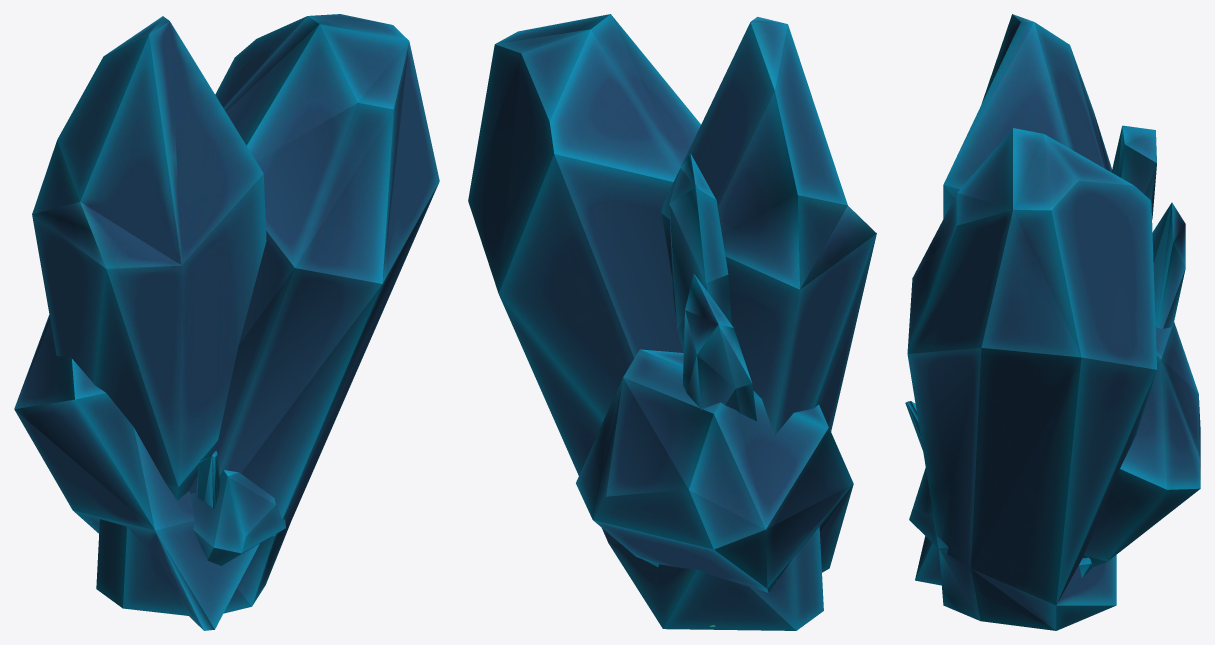
Rendered from Beacon.gltf.
3 views of the same model, side by side, from view 1: azimuth 30°, elevation 25°; view 2: azimuth 150°, elevation 25°; view 3: azimuth 270°, elevation 25° (orthographic). The views are drawn at different scales.
Parts seen in each view (by area): view 1: Crystal_Model_01, Crystal_Model_02, Crystal_Model_03, Crystal_Model_09, Crystal_Model_10; view 2: Crystal_Model_01, Crystal_Model_02, Crystal_Model_03, Crystal_Model_07, Crystal_Model_05; view 3: Crystal_Model_01, Crystal_Model_03, Crystal_Model_02, Crystal_Model_05, Crystal_Model_07, Crystal_Model_09.
Boxes of the visible parts, x1=… form: Crystal_Model_01: x1=96, y1=14, x2=439, y2=615; Crystal_Model_02: x1=32, y1=16, x2=266, y2=500; Crystal_Model_03: x1=14, y1=315, x2=259, y2=630; Crystal_Model_09: x1=190, y1=470, x2=285, y2=565; Crystal_Model_10: x1=196, y1=451, x2=219, y2=508; Crystal_Model_01: x1=468, y1=14, x2=823, y2=630; Crystal_Model_02: x1=661, y1=16, x2=876, y2=435; Crystal_Model_03: x1=576, y1=349, x2=853, y2=592; Crystal_Model_07: x1=669, y1=153, x2=731, y2=351; Crystal_Model_05: x1=683, y1=273, x2=776, y2=581; Crystal_Model_01: x1=907, y1=128, x2=1156, y2=630; Crystal_Model_03: x1=915, y1=322, x2=1200, y2=585; Crystal_Model_02: x1=943, y1=14, x2=1112, y2=218; Crystal_Model_05: x1=1152, y1=202, x2=1185, y2=328; Crystal_Model_07: x1=1111, y1=125, x2=1156, y2=219; Crystal_Model_09: x1=909, y1=468, x2=948, y2=553.
Bounding box in the file's own units: 0.1992 × 0.319 × 0.1515.
1 material, 1 textured.
